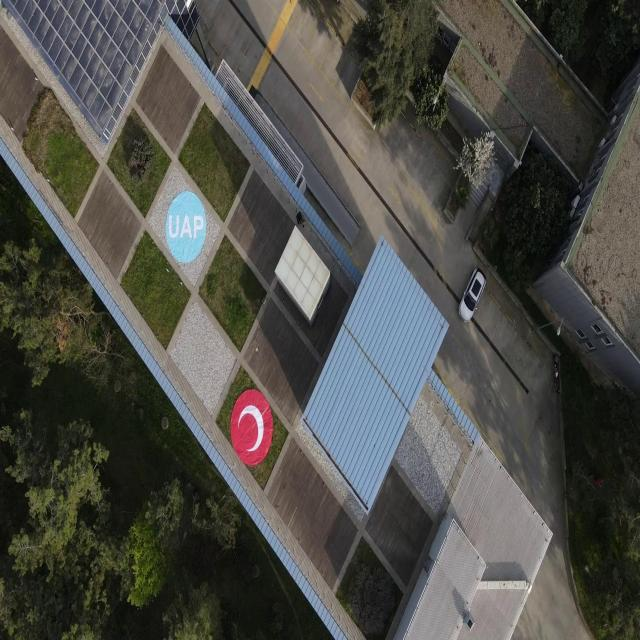p3rson: (296, 209, 306, 229)
